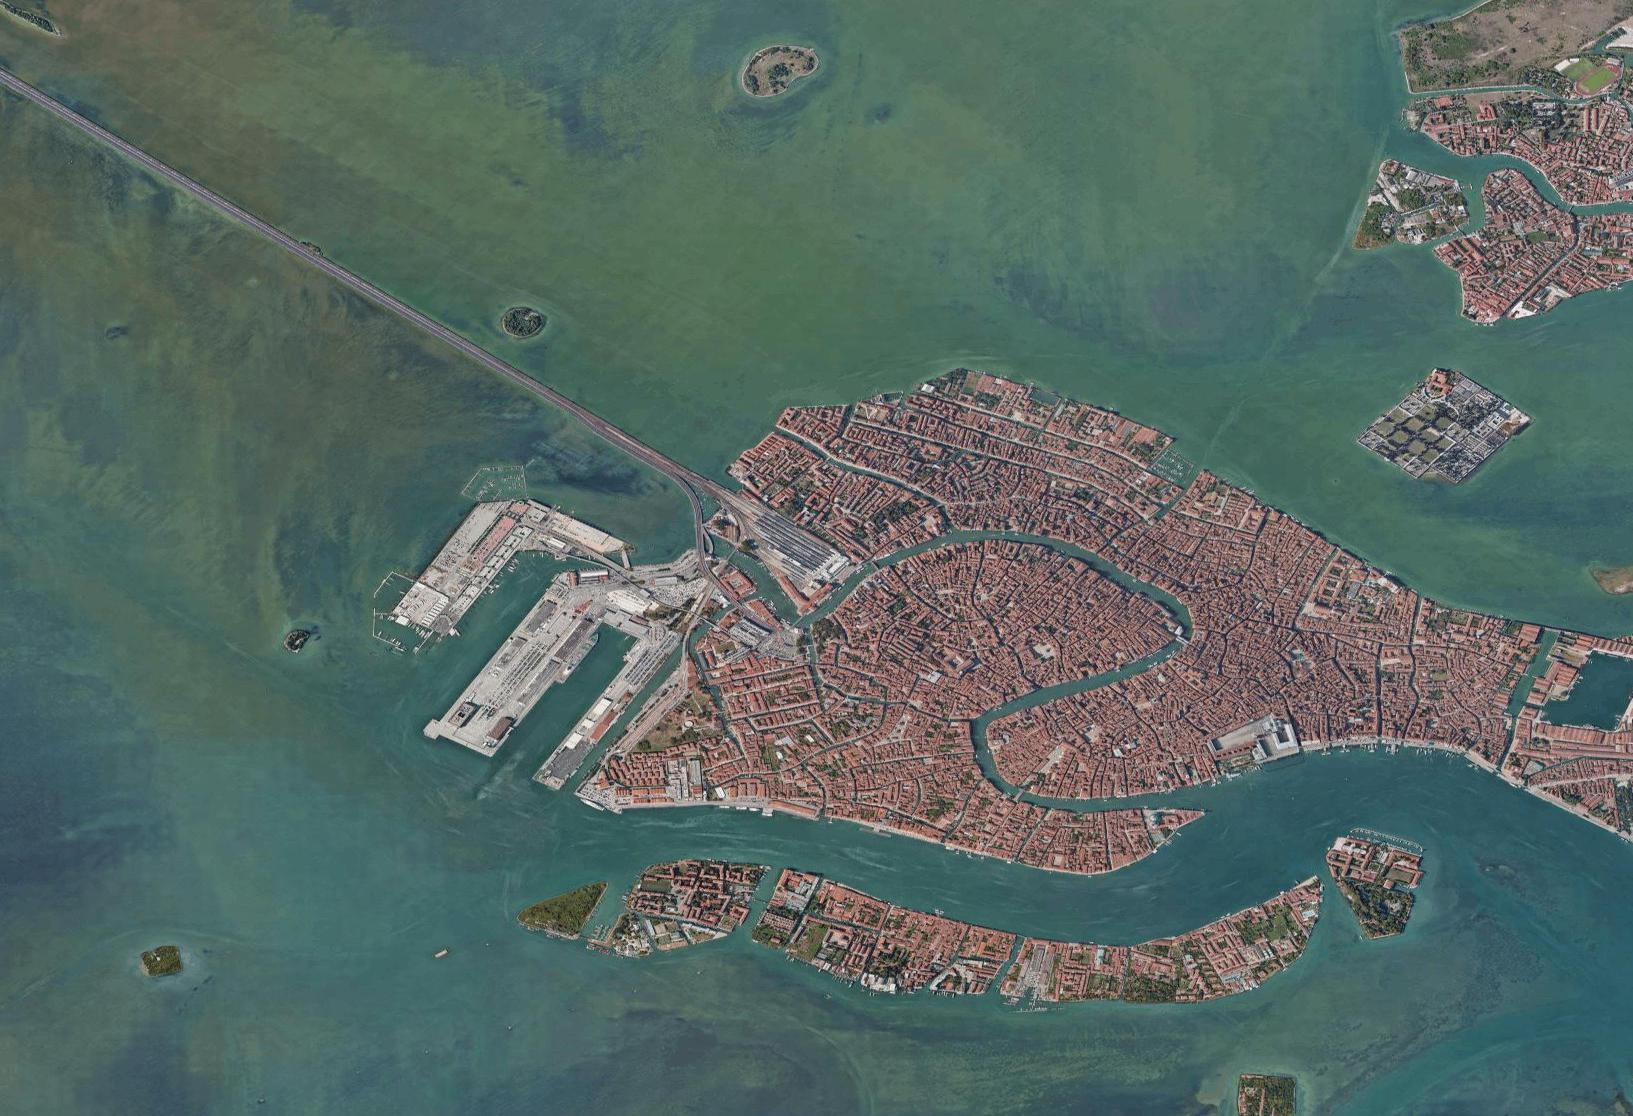harbor: (342, 469, 712, 826)
train_station: (707, 482, 861, 592)
